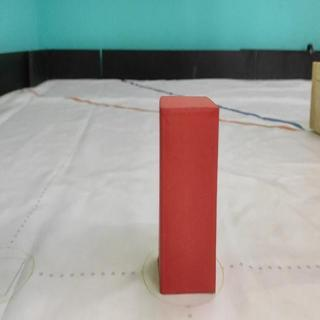redbox: (159, 97, 216, 293)
